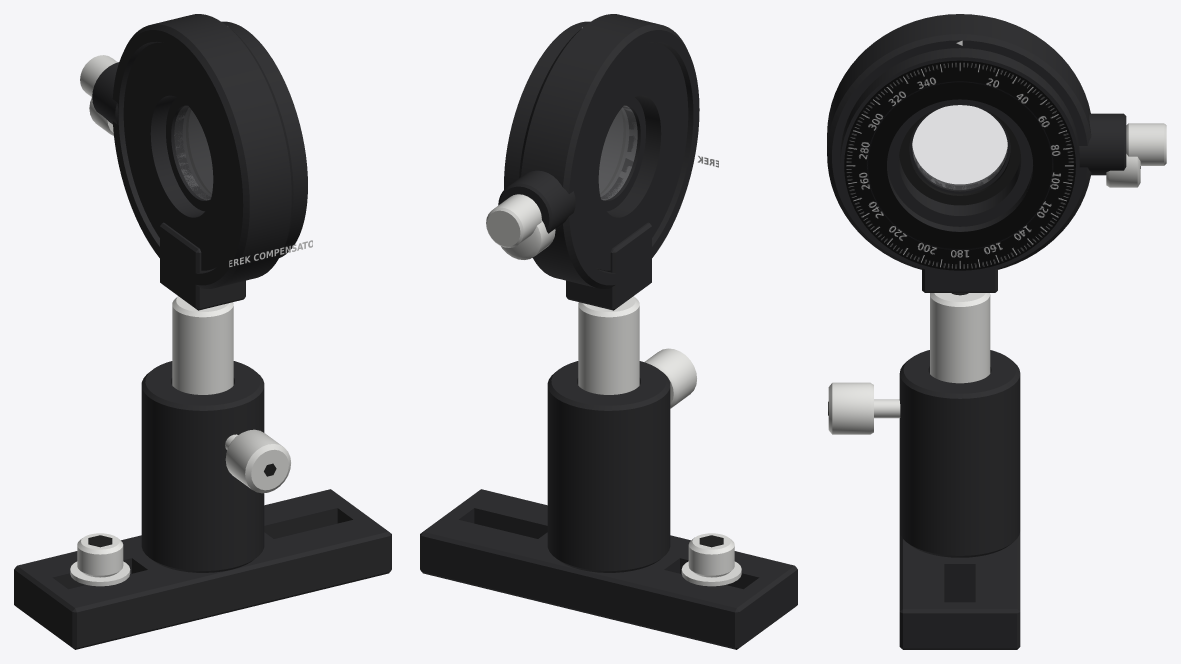
The model's file is berek_compensator.glb.
3 views of the same model, side by side, from view 1: azimuth 30°, elevation 25°; view 2: azimuth 150°, elevation 25°; view 3: azimuth 270°, elevation 25° (orthographic).
Visible parts, largest first — view 1: Body, Rotor, Optic, Tilt; view 2: Body, Rotor, Optic, Tilt; view 3: Body, Rotor, Optic, Tilt.
Boxes of the visible parts, x1=… form: Body: x1=14, y1=14, x2=391, y2=649; Rotor: x1=80, y1=21, x2=307, y2=270; Optic: x1=174, y1=106, x2=212, y2=199; Tilt: x1=166, y1=97, x2=211, y2=211; Body: x1=420, y1=14, x2=797, y2=649; Rotor: x1=486, y1=21, x2=688, y2=270; Optic: x1=599, y1=106, x2=637, y2=199; Tilt: x1=600, y1=97, x2=645, y2=211; Body: x1=827, y1=14, x2=1140, y2=649; Rotor: x1=840, y1=48, x2=1166, y2=273; Optic: x1=912, y1=105, x2=1007, y2=189; Tilt: x1=909, y1=107, x2=1010, y2=193.
Bounding box in the file's own units: 0.0762 × 0.128 × 0.0717.
Materials: 10 (4 with a texture image).
